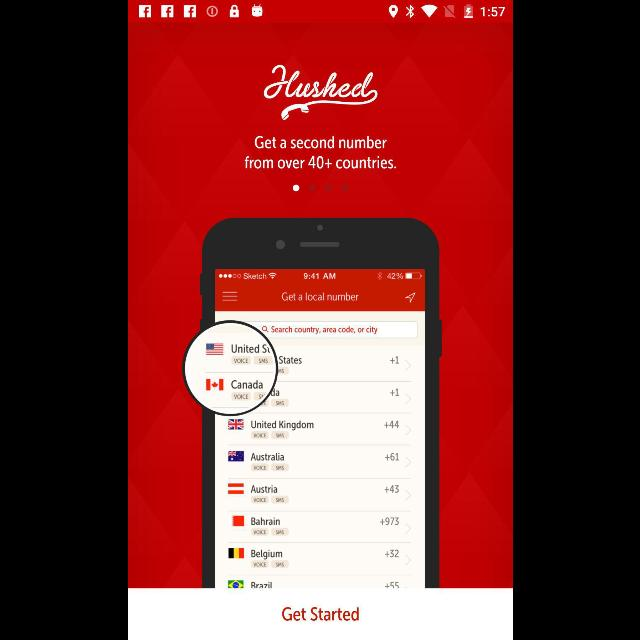image: (180, 217, 442, 588), (262, 65, 376, 121)
pageindicator: (290, 184, 348, 192)
text: (242, 136, 396, 170)
textbutton: (128, 588, 512, 640)
uppertaskbar: (128, 1, 512, 23)
